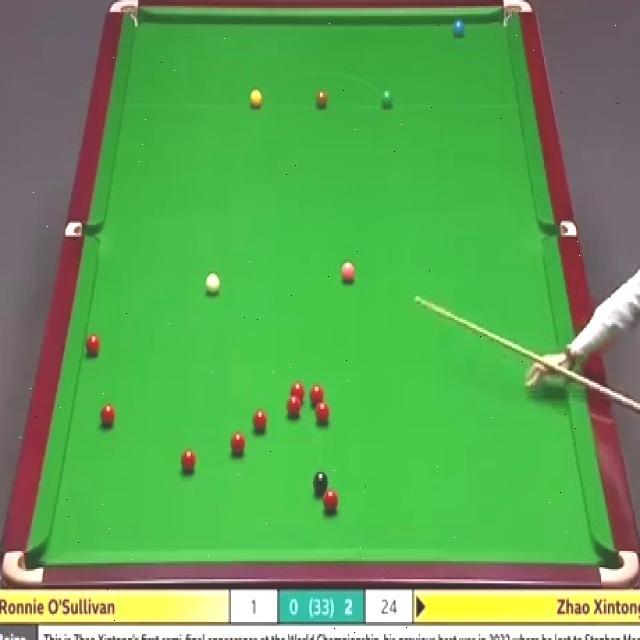black-ball: (312, 469, 329, 494)
blue-ball: (453, 18, 465, 41)
brown-ball: (316, 89, 329, 109)
green-ball: (380, 89, 394, 111)
pink-ball: (341, 260, 354, 287)
red-ball: (284, 395, 302, 423), (179, 448, 196, 474), (84, 333, 101, 358), (230, 431, 246, 457), (310, 383, 325, 408), (290, 381, 305, 406), (252, 408, 267, 433), (323, 489, 338, 512), (316, 402, 330, 426), (101, 403, 114, 427)
white-ball: (203, 270, 223, 298)
yellow-ball: (248, 89, 263, 109)
